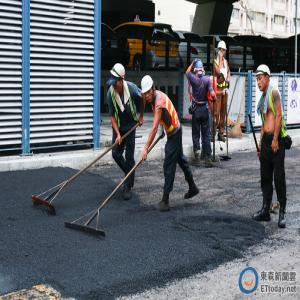blue: (193, 58, 205, 78)
white: (256, 63, 272, 92), (110, 64, 127, 91), (141, 76, 156, 102), (218, 40, 228, 57)
